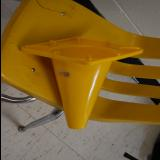cone: (20, 36, 144, 130)
